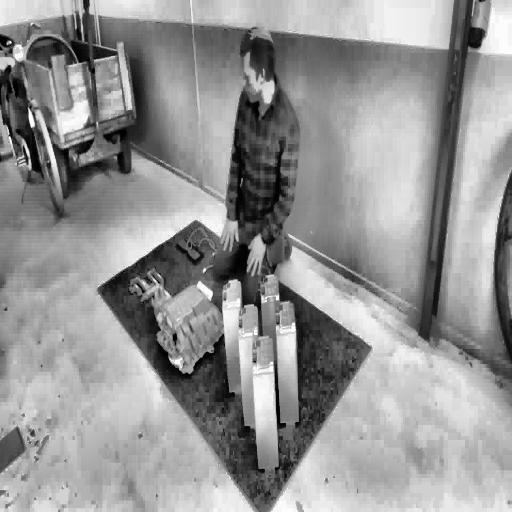battery_module: (252, 337, 279, 472), (275, 301, 300, 424), (222, 282, 244, 394), (239, 305, 258, 427), (259, 272, 279, 303)
bms_unit: (153, 280, 225, 375)
busbar: (126, 264, 164, 309)
high_volt_cable: (183, 218, 219, 276)
